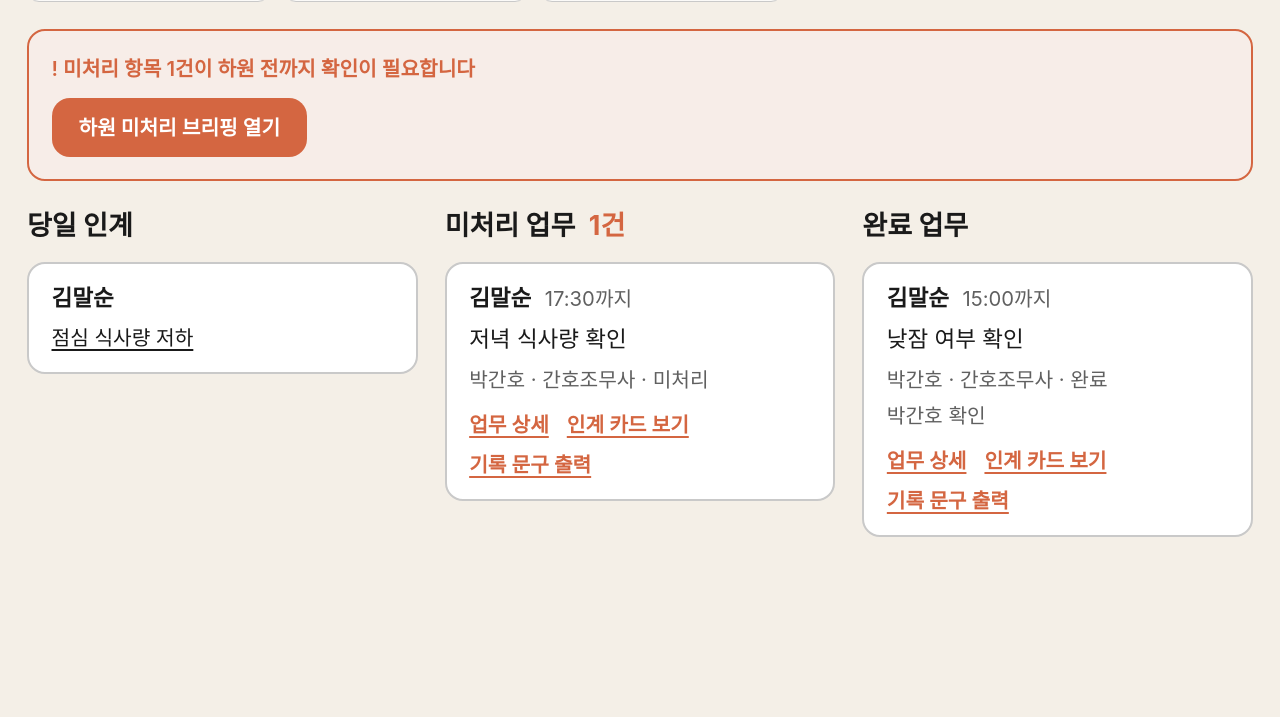
Test case: 당일 운영 현황 대시보드 (n42 관리자 대시보드 · n43 당일 인계·업무 현황) › 업무에서 인계 카드로 이동할 수 있다
(page scrolled)
Click the link "인계 카드 보기" below "17:30".
click(628, 425)  # box [567,409,689,440]
(page scrolled)
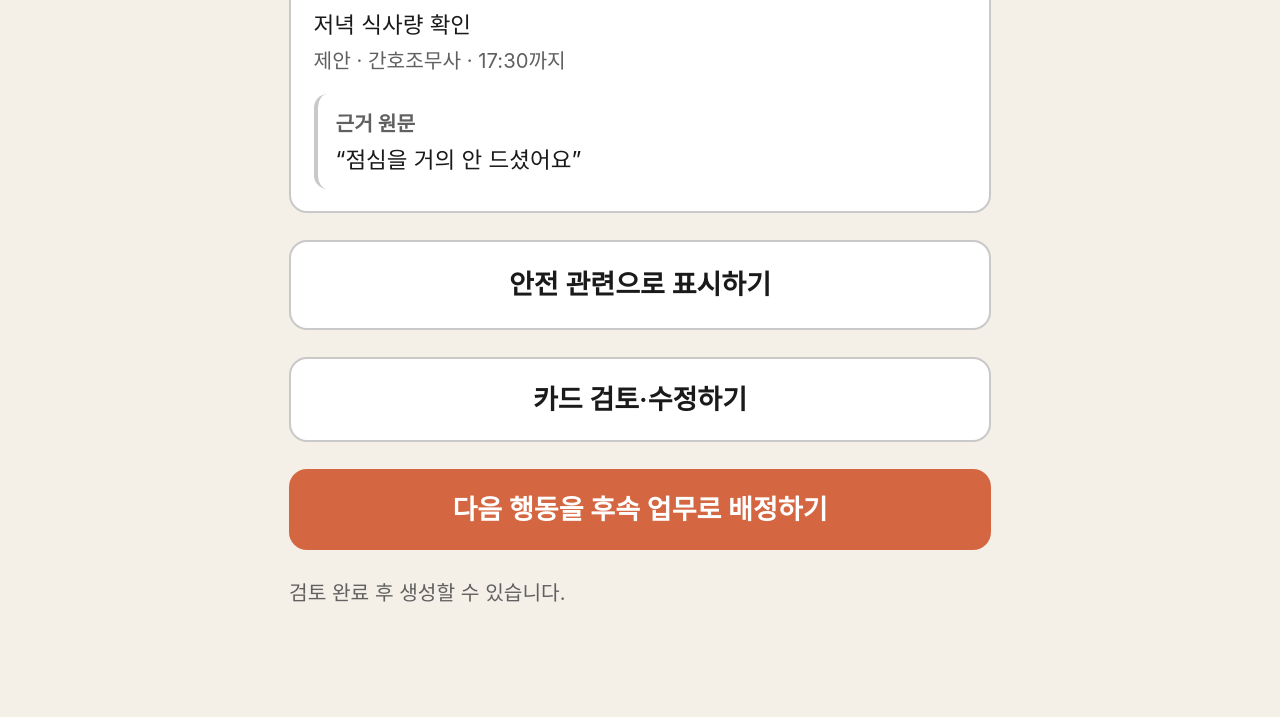
Now the text "“점심을 거의 안 드셨어요”" is shown, box [336,146,581,173]
